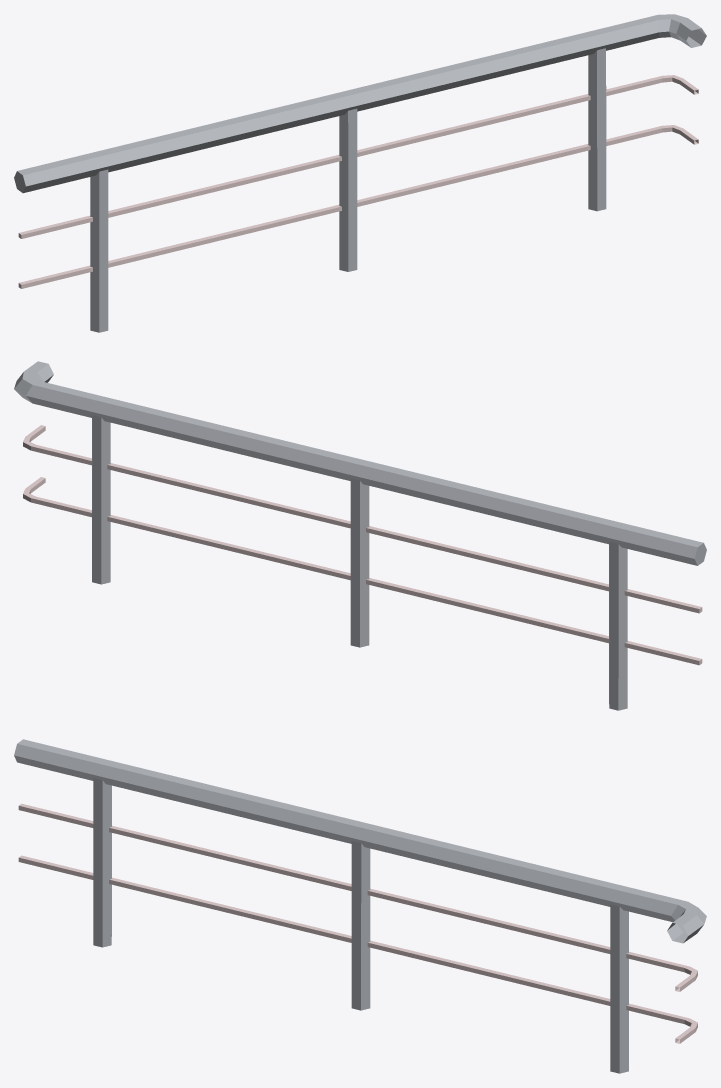
Rendered from M_Fence03_2.fbx.
3 renders of one model, top to bottom at view 1: azimuth 30°, elevation 25°; view 2: azimuth 150°, elevation 25°; view 3: azimuth 330°, elevation 25°, orthographic. The views are drawn at different scales.
Parts seen in each view (by area): view 1: M_Fence03_2; view 2: M_Fence03_2; view 3: M_Fence03_2.
Boxes of the visible parts, <box> form: M_Fence03_2: <box>14,14,706,332</box>; M_Fence03_2: <box>14,361,706,710</box>; M_Fence03_2: <box>14,739,706,1073</box>.
Size of what is drawn, in the model's own units: 381 by 27.59 by 95.5.
